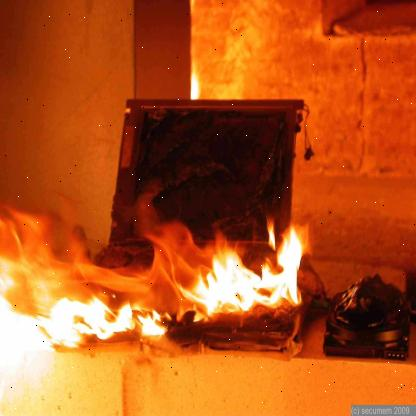fire: (0, 222, 310, 383)
